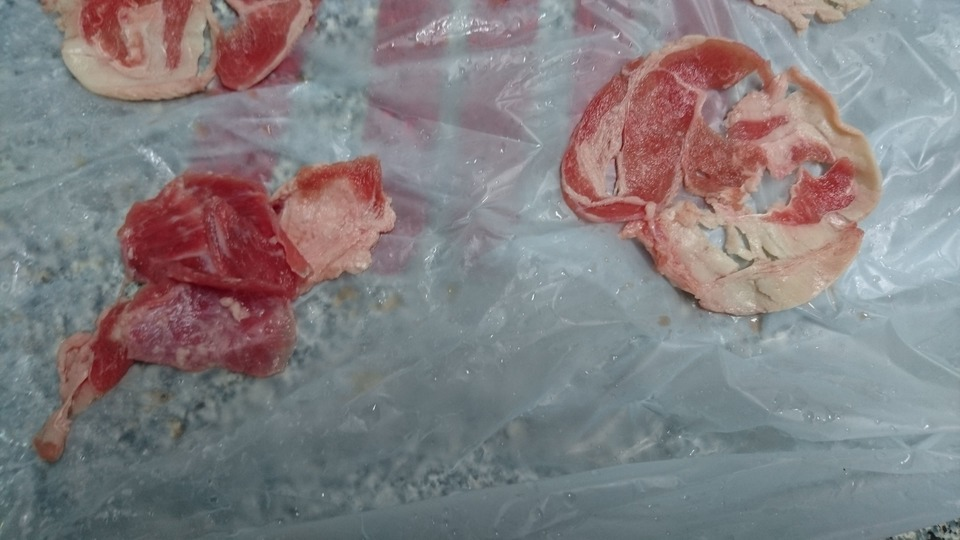restructured meat: (44, 149, 387, 449), (552, 30, 883, 310)
